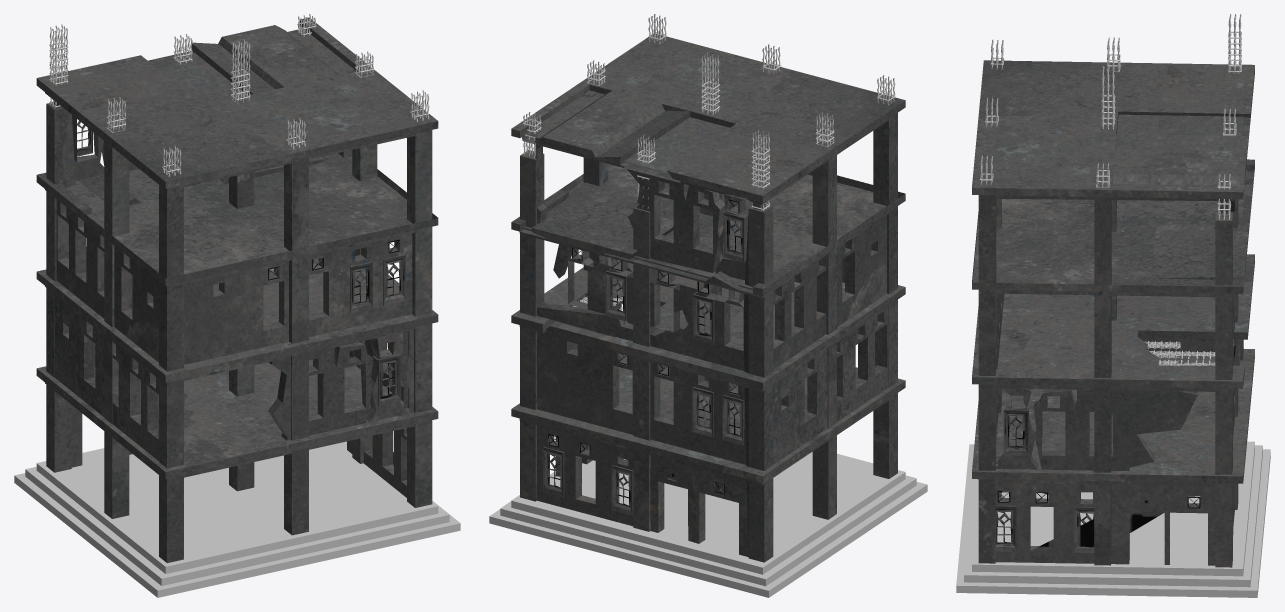
The model's file is 무너진 건물.fbx.
3 renders of one model, left to right at view 1: azimuth 30°, elevation 25°; view 2: azimuth 150°, elevation 25°; view 3: azimuth 270°, elevation 25°, orthographic. The views are drawn at different scales.
Visible parts, largest first — view 1: BuildingMain, Floor, rusted_metal; view 2: BuildingMain, Floor, rusted_metal; view 3: BuildingMain, Floor, rusted_metal.
Boxes of the visible parts, box(x1,y1,x2,y2) form: BuildingMain: box(36, 17, 438, 563); Floor: box(14, 441, 460, 597); rusted_metal: box(49, 14, 429, 270); BuildingMain: box(511, 33, 905, 562); Floor: box(489, 452, 927, 597); rusted_metal: box(523, 14, 895, 311); BuildingMain: box(972, 60, 1254, 567); Floor: box(956, 441, 1270, 597); rusted_metal: box(979, 14, 1241, 365).
Size of the model in its own units: 643 by 933 by 584.
